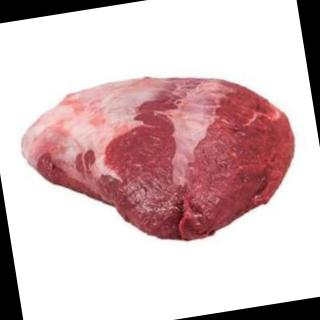Daging Sapi: (15, 54, 311, 265)
